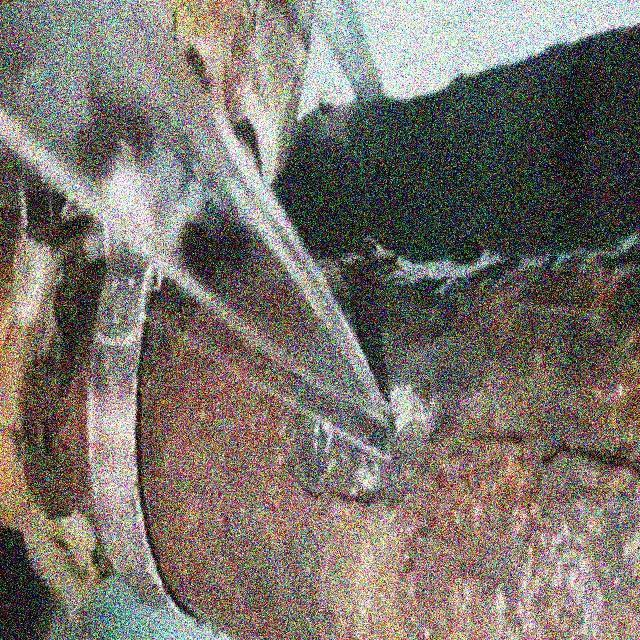pipe burst: (0, 84, 410, 471)
